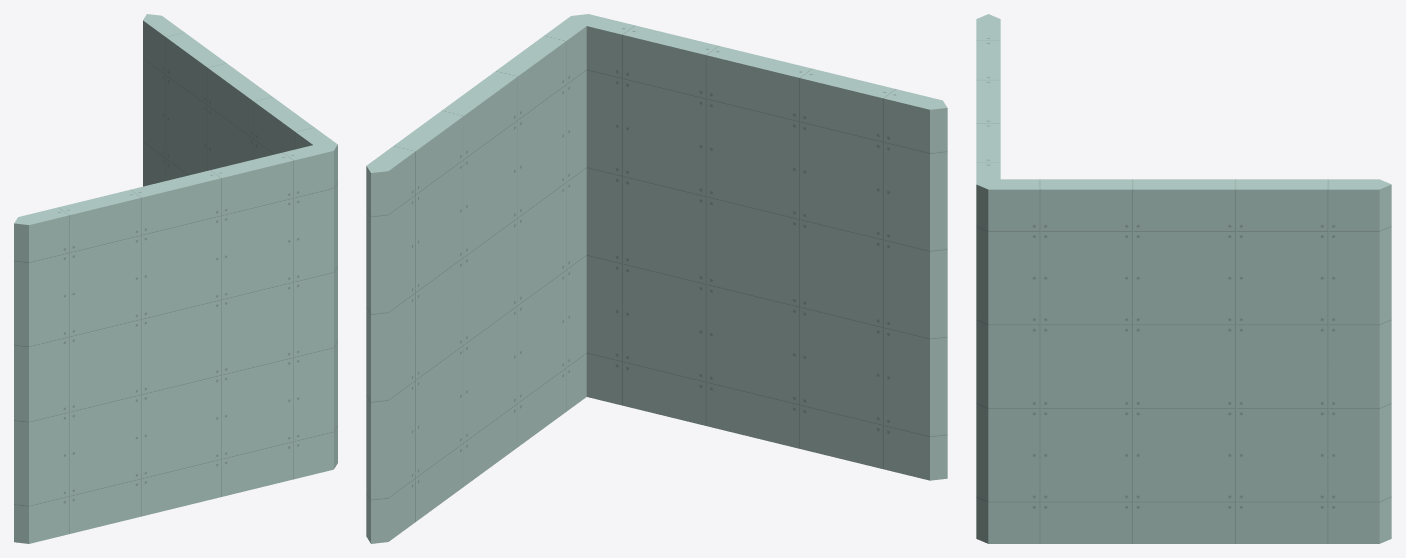
File: DummyWall2.glb
3 views of the same model, side by side, from view 1: azimuth 30°, elevation 25°; view 2: azimuth 150°, elevation 25°; view 3: azimuth 270°, elevation 25° (orthographic). The views are drawn at different scales.
Parts seen in each view (by area): view 1: mergedBlocks(Clone); view 2: mergedBlocks(Clone); view 3: mergedBlocks(Clone).
Part boxes in pixels (left/top/right/bottom): mergedBlocks(Clone): left=14, top=14, right=337, bottom=543; mergedBlocks(Clone): left=366, top=14, right=947, bottom=543; mergedBlocks(Clone): left=976, top=14, right=1391, bottom=543.
Bounding box in the file's own units: 2.13 × 2 × 2.12.
1 material, 1 textured.
